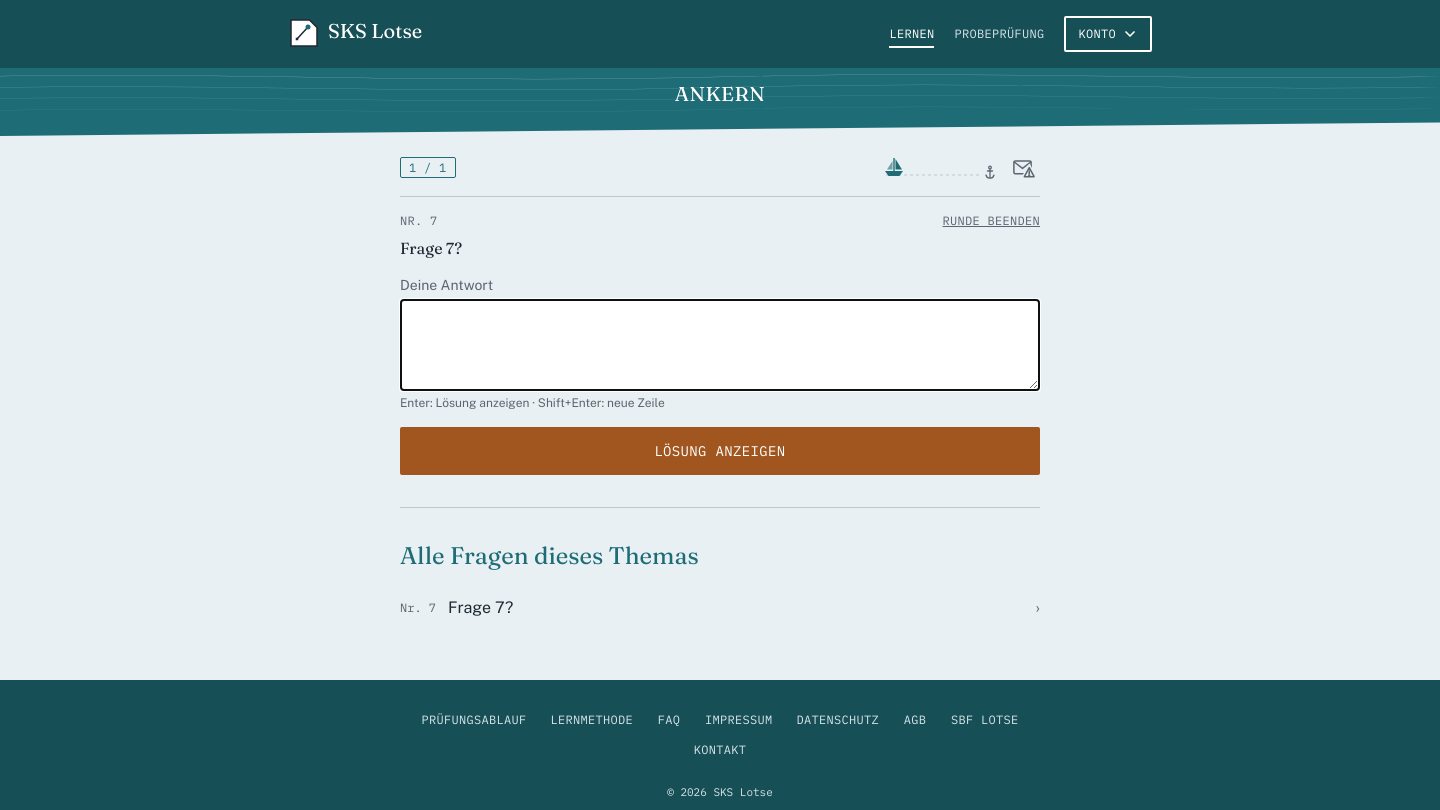
Test: PracticePage › offers the AI check only as a teaser without tokens
The image size is (1440, 810).
Click the button "Lösung anzeigen".
click(720, 451)  # box x1=400 y1=427 x2=1040 y2=475
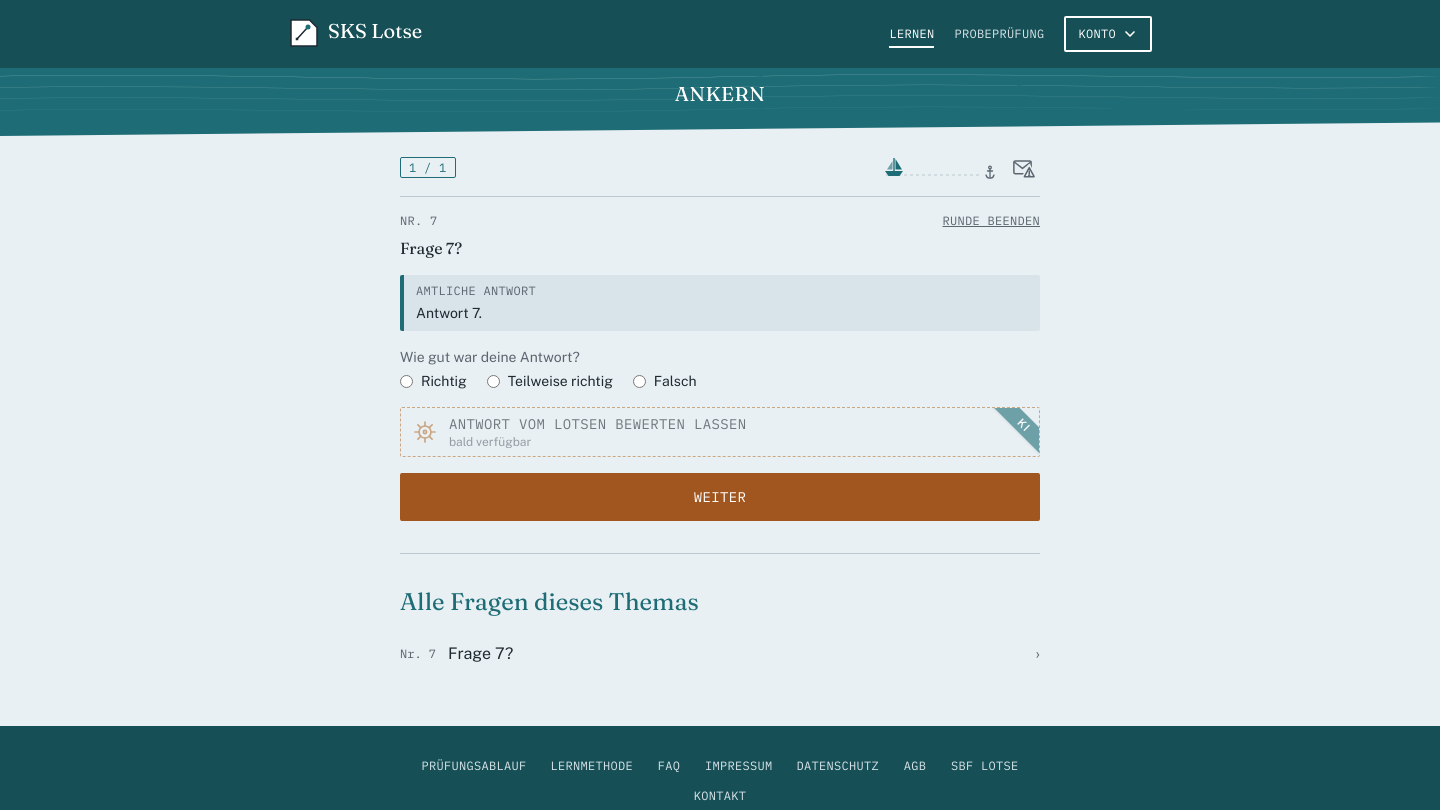
Check: the button "Antwort vom Lotsen bewerten lassen bald verfügbar KI" is disabled, box x1=400 y1=407 x2=1040 y2=457
Check: the button "Antwort vom Lotsen bewerten lassen bald verfügbar KI" is shown, box x1=400 y1=407 x2=1040 y2=457
